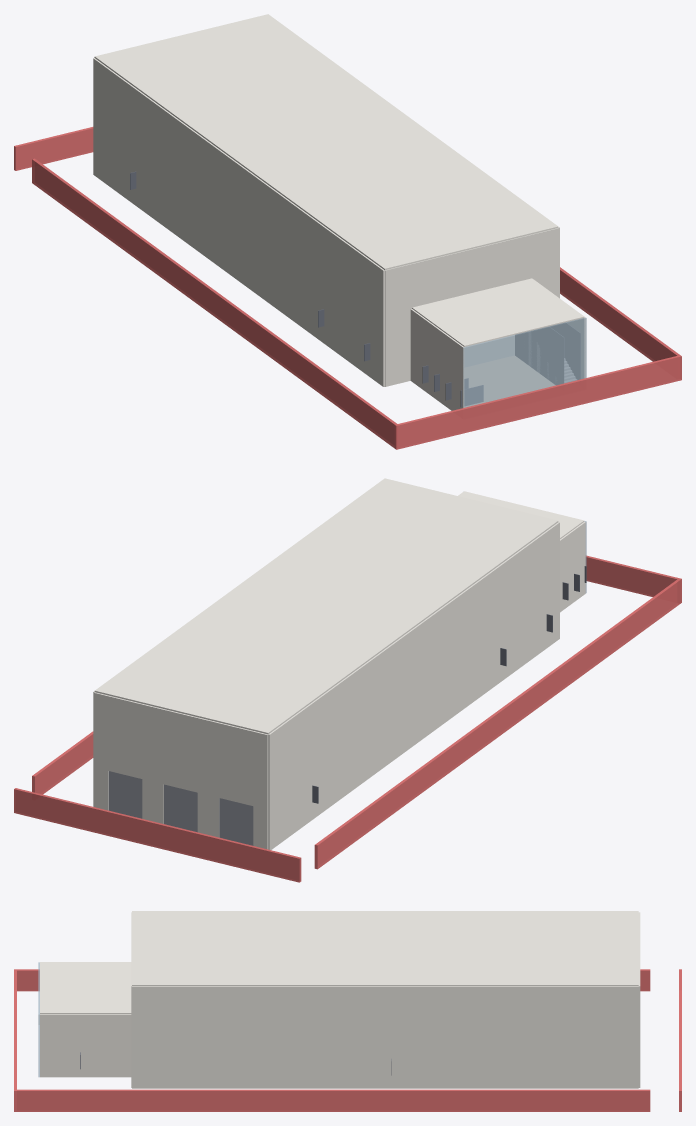
File: NIMA_PhaseII_SpatialReview_LearningLab.glb
3 renders of one model, top to bottom at view 1: azimuth 30°, elevation 25°; view 2: azimuth 150°, elevation 25°; view 3: azimuth 270°, elevation 25°, orthographic. The views are drawn at different scales.
Parts seen in each view (by area): view 1: ProveOut_Roof, ProveOut_Wall_W, MVP_Barrier_W, Shared_Wall_Upper_L, Lobby_Wall_S, MVP_Barrier_S, Lobby_Ceiling, Lobby_Wall_W, MVP_Barrier_E, Lobby_Floor, MVP_Barrier_N, Stair_Rail_W (+4 smaller); view 2: ProveOut_Roof, ProveOut_Wall_W, MVP_Barrier_W, MVP_Barrier_N, OH_Door_C_header, OH_Door_W_header, OH_Door_E_header, ProveOut_Wall_N_seg_1, ProveOut_Wall_N_seg_2, MVP_Barrier_S, ProveOut_Wall_N_seg_0, Lobby_Wall_W (+6 smaller); view 3: ProveOut_Wall_E, ProveOut_Roof, MVP_Barrier_E, Lobby_Wall_E, Lobby_Ceiling, MVP_Barrier_W, MVP_Barrier_S, MVP_Barrier_N, ProveOut_Wall_N_seg_3.
Boxes of the visible parts, left/top/right/bottom form: ProveOut_Roof: left=94, top=14, right=558, bottom=270; ProveOut_Wall_W: left=93, top=58, right=384, bottom=386; MVP_Barrier_W: left=32, top=158, right=397, bottom=448; Shared_Wall_Upper_L: left=385, top=238, right=514, bottom=386; Lobby_Wall_S: left=463, top=317, right=586, bottom=407; MVP_Barrier_S: left=394, top=355, right=681, bottom=449; Lobby_Ceiling: left=412, top=278, right=584, bottom=346; Lobby_Wall_W: left=410, top=309, right=464, bottom=410; MVP_Barrier_E: left=560, top=267, right=679, bottom=361; Lobby_Floor: left=464, top=356, right=554, bottom=407; MVP_Barrier_N: left=14, top=127, right=93, bottom=170; Stair_Rail_W: left=515, top=327, right=563, bottom=384; ProveOut_Roof: left=94, top=478, right=558, bottom=734; ProveOut_Wall_W: left=268, top=522, right=559, bottom=849; MVP_Barrier_W: left=314, top=579, right=680, bottom=869; MVP_Barrier_N: left=14, top=788, right=301, bottom=882; OH_Door_C_header: left=163, top=709, right=198, bottom=792; OH_Door_W_header: left=219, top=723, right=253, bottom=805; OH_Door_E_header: left=108, top=695, right=142, bottom=778; ProveOut_Wall_N_seg_1: left=197, top=717, right=219, bottom=837; ProveOut_Wall_N_seg_2: left=142, top=704, right=163, bottom=823; MVP_Barrier_S: left=586, top=555, right=681, bottom=603; ProveOut_Wall_N_seg_0: left=253, top=731, right=268, bottom=849; Lobby_Wall_W: left=560, top=521, right=585, bottom=612; ProveOut_Wall_E: left=132, top=986, right=638, bottom=1088; ProveOut_Roof: left=132, top=911, right=638, bottom=986; MVP_Barrier_E: left=17, top=1089, right=650, bottom=1111; Lobby_Wall_E: left=40, top=1014, right=131, bottom=1077; Lobby_Ceiling: left=40, top=962, right=131, bottom=1013; MVP_Barrier_W: left=17, top=969, right=650, bottom=991; MVP_Barrier_S: left=14, top=969, right=16, bottom=1111; MVP_Barrier_N: left=679, top=969, right=681, bottom=1111; ProveOut_Wall_N_seg_3: left=638, top=980, right=640, bottom=1087.
Bounding box in the file's own units: 30.48 × 12.04 × 70.71.
